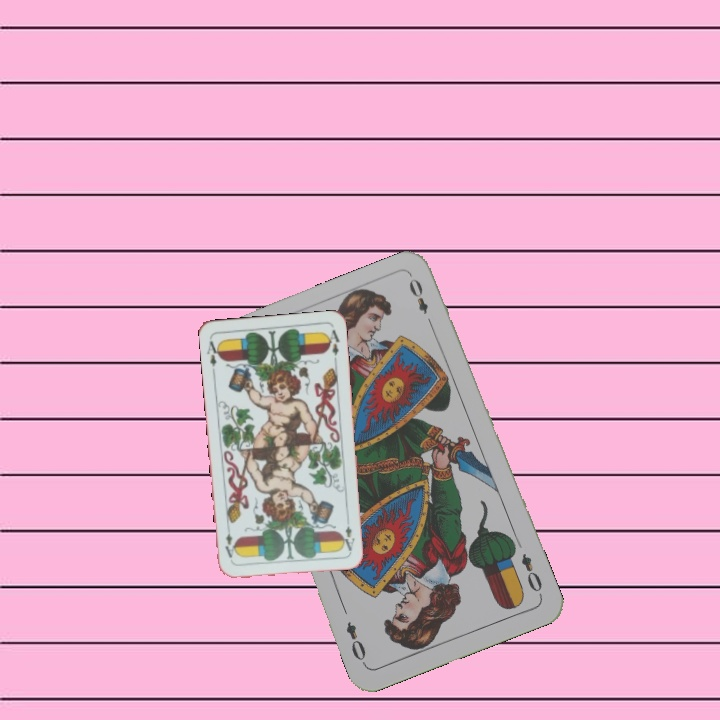EA: (203, 335, 223, 375), (339, 522, 357, 553)
EO: (517, 549, 545, 599)
